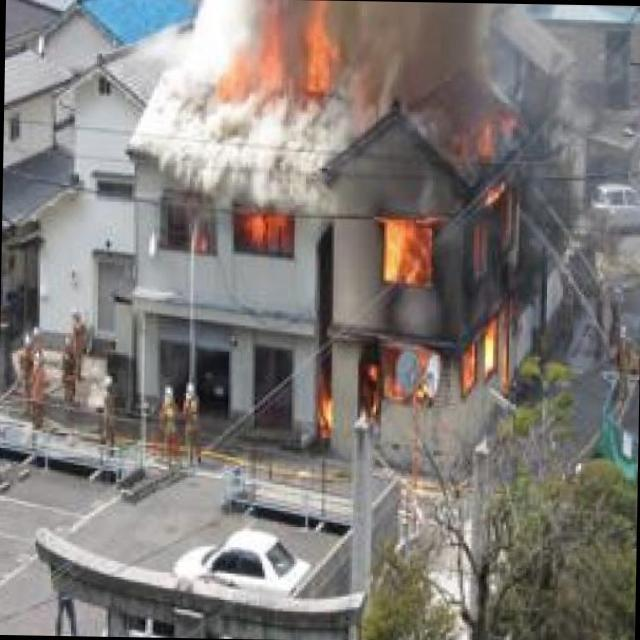Fire: (309, 105, 539, 461), (206, 1, 346, 105), (189, 208, 294, 263)
